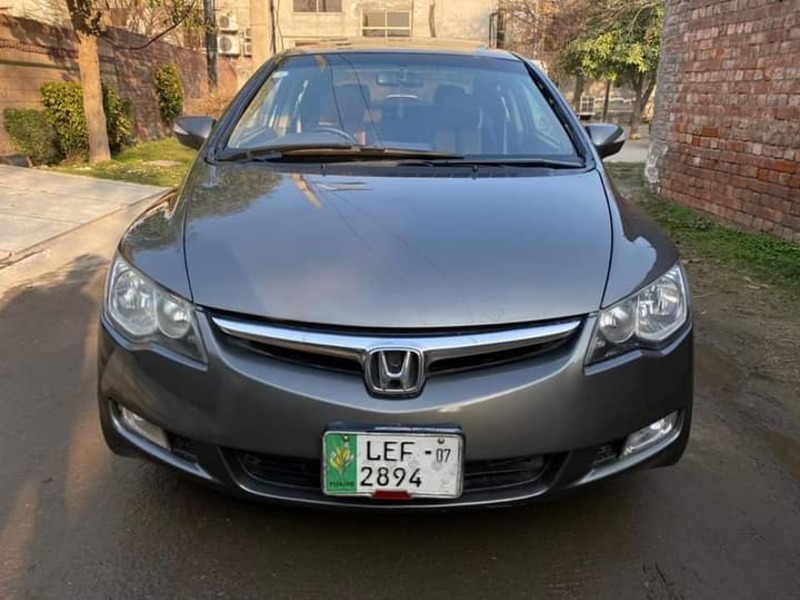License Plate: (318, 424, 469, 504)
